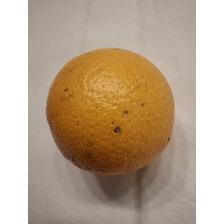Mandarine: (41, 43, 177, 177)
